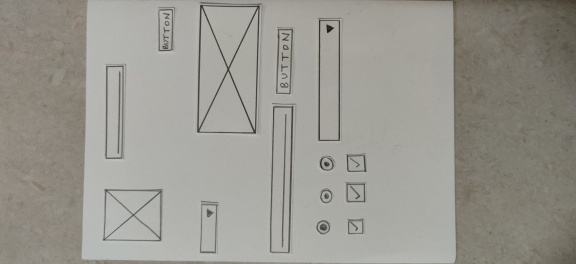button: (273, 27, 292, 94), (157, 9, 173, 52)
checkbox: (345, 183, 367, 204), (346, 153, 367, 173), (347, 217, 367, 234)
dropdown: (319, 18, 343, 143), (199, 201, 219, 255)
img: (196, 3, 257, 135), (103, 187, 165, 242)
radio: (316, 156, 336, 173), (318, 188, 336, 203), (316, 220, 332, 235)
text: (271, 101, 292, 254), (104, 65, 126, 160)
